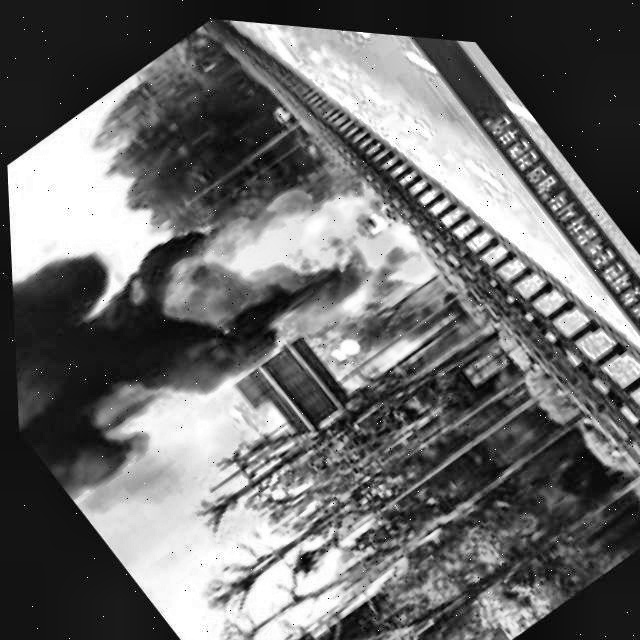Fire: (141, 113, 451, 422)
Smoke: (6, 180, 239, 516)
